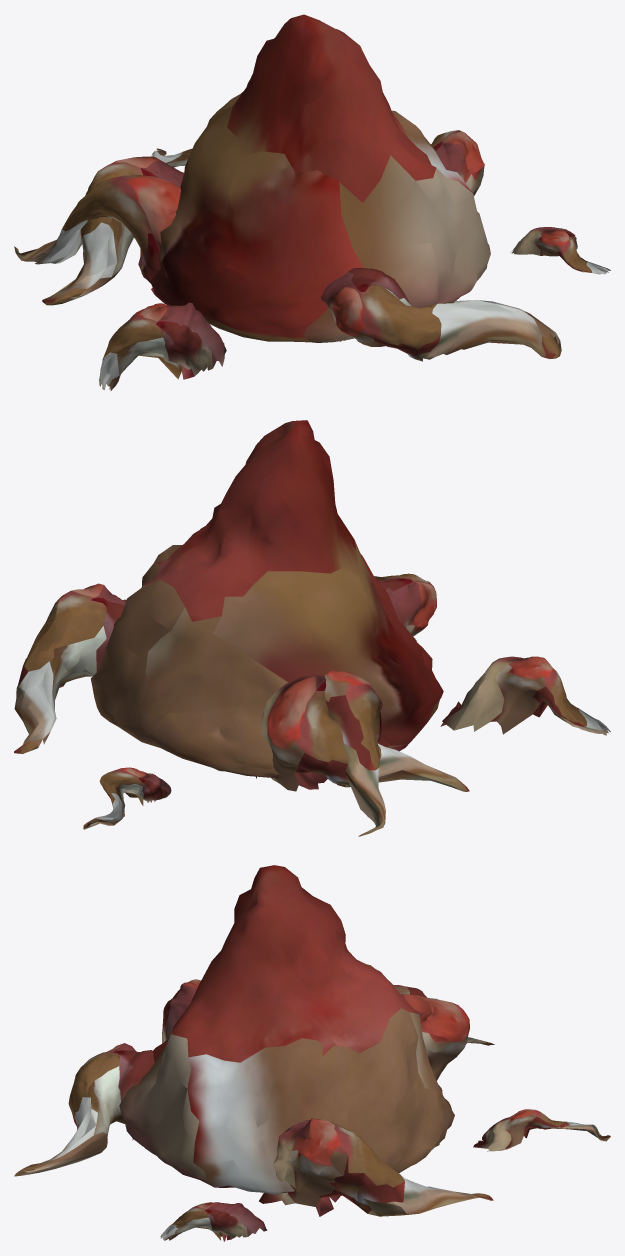
Rendered from Vine.fbx.
3 views of the same model, one above another, from view 1: azimuth 30°, elevation 25°; view 2: azimuth 150°, elevation 25°; view 3: azimuth 270°, elevation 25° (orthographic). The views are drawn at different scales.
Parts seen in each view (by area): view 1: yam_vine_base, model_Mesh2, model_Mesh6, model_Mesh3, model_Mesh1, model_Mesh4, model_Mesh; view 2: yam_vine_base, model_Mesh1, model_Mesh, model_Mesh3, model_Mesh6, model_Mesh5, model_Mesh2; view 3: yam_vine_base, model_Mesh, model_Mesh2, model_Mesh1, model_Mesh4, model_Mesh5, model_Mesh3.
Boxes of the visible parts, x1,y1,x2,y2 form: yam_vine_base: (140, 14, 490, 342); model_Mesh2: (321, 268, 561, 361); model_Mesh6: (14, 175, 180, 283); model_Mesh3: (99, 302, 226, 390); model_Mesh1: (42, 156, 183, 305); model_Mesh4: (510, 227, 610, 274); model_Mesh: (431, 130, 484, 195); yam_vine_base: (91, 420, 443, 777); model_Mesh1: (256, 674, 469, 791); model_Mesh: (14, 583, 126, 753); model_Mesh3: (440, 656, 610, 735); model_Mesh6: (324, 671, 385, 836); model_Mesh5: (83, 767, 171, 829); model_Mesh2: (374, 573, 436, 636); yam_vine_base: (119, 865, 454, 1194); model_Mesh: (259, 1118, 493, 1216); model_Mesh2: (14, 1043, 154, 1176); model_Mesh1: (401, 993, 469, 1080); model_Mesh4: (160, 1202, 267, 1241); model_Mesh5: (473, 1109, 610, 1151); model_Mesh3: (162, 979, 200, 1043).
Bounding box in the file's own units: 0.3557 × 0.1975 × 0.3865.
